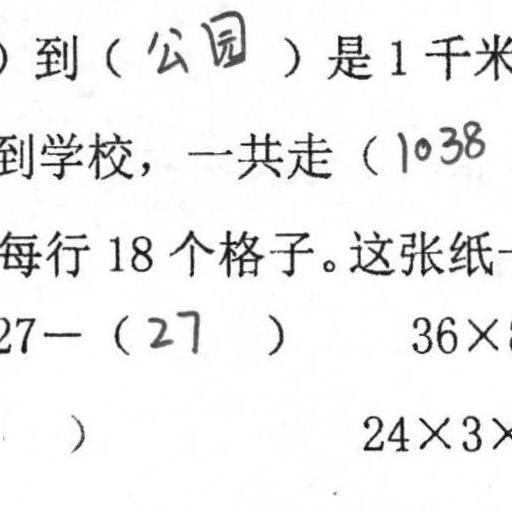ans: (142, 6, 248, 76), (394, 117, 490, 175), (142, 303, 201, 354)
